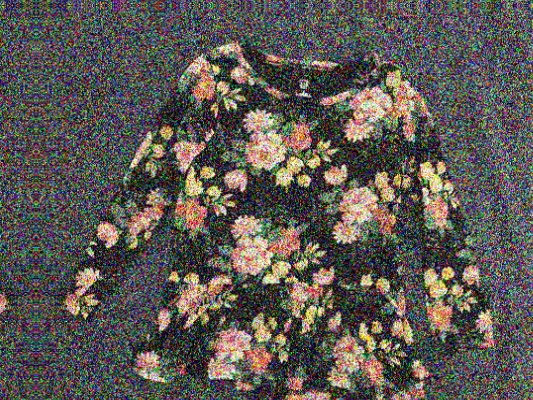Dress: (69, 29, 500, 400), (0, 29, 2, 400)
